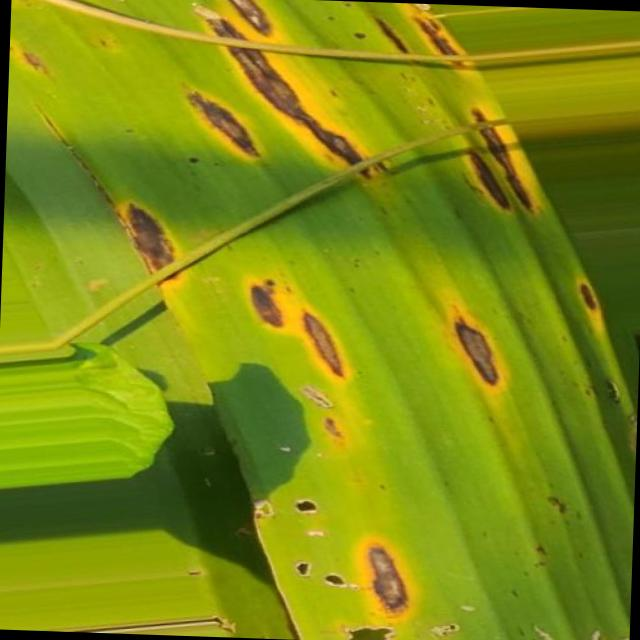Banana_Yellow_Sigatoka: (168, 0, 550, 214), (104, 204, 509, 382)
